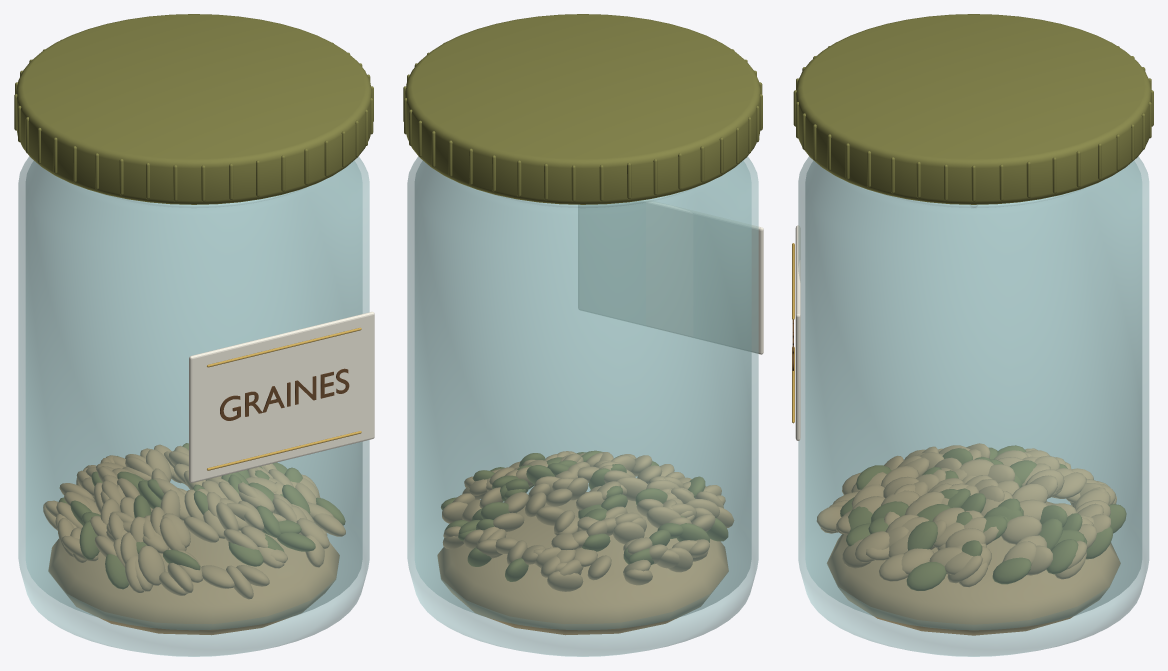
File: jar_seeds.glb
The picture shows the model from 3 angles, left to right: view 1: azimuth 30°, elevation 25°; view 2: azimuth 150°, elevation 25°; view 3: azimuth 270°, elevation 25°; orthographic projection.
Parts seen in each view (by area): view 1: Hollow_jar_glass, Separate_screw_lid, Cream_paper_label, Seed_pile_core, Label_GRAINES, Individual_seed.167, Glass_thread, Individual_seed.124, Individual_seed.115, Individual_seed.111, Label_gold_rule.001, Individual_seed.052 (+3 smaller); view 2: Hollow_jar_glass, Separate_screw_lid, Cream_paper_label, Seed_pile_core, Glass_thread, Individual_seed.113, Individual_seed.150; view 3: Hollow_jar_glass, Separate_screw_lid, Seed_pile_core, Cream_paper_label, Individual_seed.164, Individual_seed.051, Individual_seed.144, Individual_seed.048, Individual_seed, Individual_seed.109, Glass_thread, Individual_seed.082 (+3 smaller).
Part boxes in pixels (x1=…): Hollow_jar_glass: x1=18, y1=156, x2=369, y2=656; Separate_screw_lid: x1=16, y1=14, x2=371, y2=204; Cream_paper_label: x1=189, y1=312, x2=374, y2=482; Seed_pile_core: x1=48, y1=507, x2=339, y2=635; Label_GRAINES: x1=220, y1=368, x2=349, y2=420; Individual_seed.167: x1=138, y1=545, x2=165, y2=585; Glass_thread: x1=81, y1=187, x2=306, y2=208; Individual_seed.124: x1=105, y1=554, x2=128, y2=589; Individual_seed.115: x1=201, y1=565, x2=234, y2=588; Individual_seed.111: x1=184, y1=516, x2=218, y2=542; Label_gold_rule.001: x1=207, y1=327, x2=361, y2=367; Individual_seed.052: x1=79, y1=520, x2=99, y2=559; Hollow_jar_glass: x1=407, y1=156, x2=758, y2=656; Separate_screw_lid: x1=405, y1=14, x2=760, y2=204; Cream_paper_label: x1=578, y1=200, x2=763, y2=354; Seed_pile_core: x1=437, y1=492, x2=728, y2=635; Glass_thread: x1=470, y1=187, x2=695, y2=208; Individual_seed.113: x1=547, y1=571, x2=582, y2=591; Individual_seed.150: x1=613, y1=521, x2=644, y2=544; Hollow_jar_glass: x1=798, y1=156, x2=1149, y2=656; Separate_screw_lid: x1=796, y1=14, x2=1151, y2=204; Seed_pile_core: x1=827, y1=501, x2=1120, y2=635; Cream_paper_label: x1=795, y1=225, x2=800, y2=440; Individual_seed.164: x1=906, y1=562, x2=946, y2=590; Individual_seed.051: x1=1001, y1=515, x2=1041, y2=544; Individual_seed.144: x1=992, y1=557, x2=1031, y2=584; Individual_seed.048: x1=1046, y1=539, x2=1078, y2=574; Individual_seed: x1=907, y1=521, x2=937, y2=550; Individual_seed.109: x1=855, y1=531, x2=889, y2=562; Glass_thread: x1=861, y1=187, x2=1086, y2=208; Individual_seed.082: x1=879, y1=553, x2=908, y2=581.
Size of the model in its own units: 0.1518 by 0.2395 by 0.1525.
